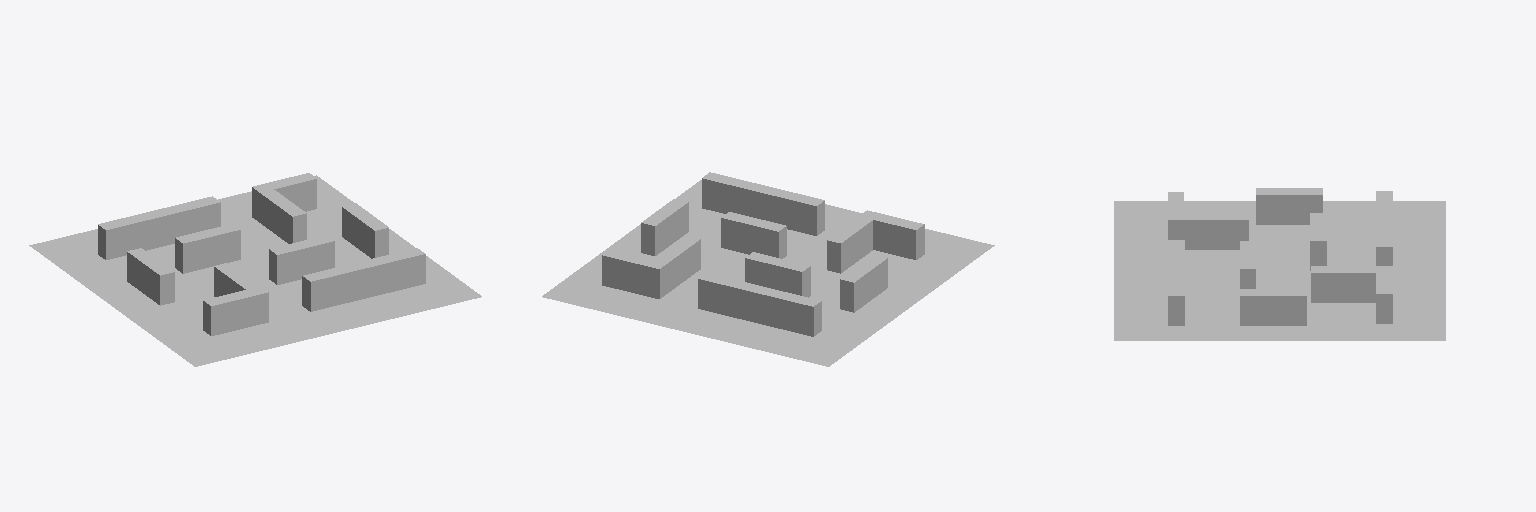
The model's file is MapBottom3.obj.
The picture shows the model from 3 angles: view 1: azimuth 30°, elevation 25°; view 2: azimuth 150°, elevation 25°; view 3: azimuth 270°, elevation 25°; orthographic projection.
Visible parts, largest first — view 1: Plane, Cube.001, Cube.000_Cube.003, Cube.005_Cube.009, Cube.003_Cube.005, Cube.004_Cube.008, Cube.007_Cube.011, Cube.008_Cube.000, Cube.006_Cube.010, Cube.002_Cube.004, Cube.009_Cube.002; view 2: Plane, Cube.000_Cube.003, Cube.001, Cube.002_Cube.004, Cube.004_Cube.008, Cube.005_Cube.009, Cube.003_Cube.005, Cube.007_Cube.011, Cube.006_Cube.010, Cube.009_Cube.002, Cube.008_Cube.000; view 3: Plane, Cube.006_Cube.010, Cube.008_Cube.000, Cube.007_Cube.011, Cube.009_Cube.002, Cube.001, Cube.000_Cube.003, Cube.002_Cube.004, Cube.005_Cube.009, Cube.003_Cube.005, Cube.004_Cube.008.
Part boxes in pixels (x1,y1,x2,y2): Plane: (29, 175, 481, 366); Cube.001: (302, 248, 425, 311); Cube.000_Cube.003: (98, 196, 220, 259); Cube.005_Cube.009: (175, 224, 240, 273); Cube.003_Cube.005: (203, 287, 268, 335); Cube.004_Cube.008: (269, 235, 334, 284); Cube.007_Cube.011: (127, 248, 174, 305); Cube.008_Cube.000: (259, 189, 306, 243); Cube.006_Cube.010: (342, 203, 388, 258); Cube.002_Cube.004: (252, 173, 316, 221); Cube.009_Cube.002: (214, 263, 260, 296); Plane: (542, 180, 994, 366); Cube.000_Cube.003: (698, 273, 821, 336); Cube.001: (702, 172, 824, 235); Cube.002_Cube.004: (602, 249, 667, 298); Cube.004_Cube.008: (721, 212, 786, 258); Cube.005_Cube.009: (745, 252, 810, 297); Cube.003_Cube.005: (860, 210, 924, 259); Cube.007_Cube.011: (840, 255, 887, 312); Cube.006_Cube.010: (641, 199, 688, 255); Cube.009_Cube.002: (827, 216, 873, 273); Cube.008_Cube.000: (654, 236, 700, 293); Plane: (1114, 201, 1445, 340); Cube.006_Cube.010: (1240, 289, 1306, 325); Cube.008_Cube.000: (1311, 266, 1375, 302); Cube.007_Cube.011: (1256, 188, 1322, 224); Cube.009_Cube.002: (1184, 213, 1248, 249); Cube.001: (1168, 240, 1184, 325); Cube.000_Cube.003: (1376, 191, 1392, 265); Cube.002_Cube.004: (1376, 266, 1392, 323); Cube.005_Cube.009: (1310, 213, 1326, 270); Cube.003_Cube.005: (1168, 192, 1183, 239); Cube.004_Cube.008: (1240, 241, 1255, 288).
Bounding box in the file's own units: 40 × 4.05 × 40.